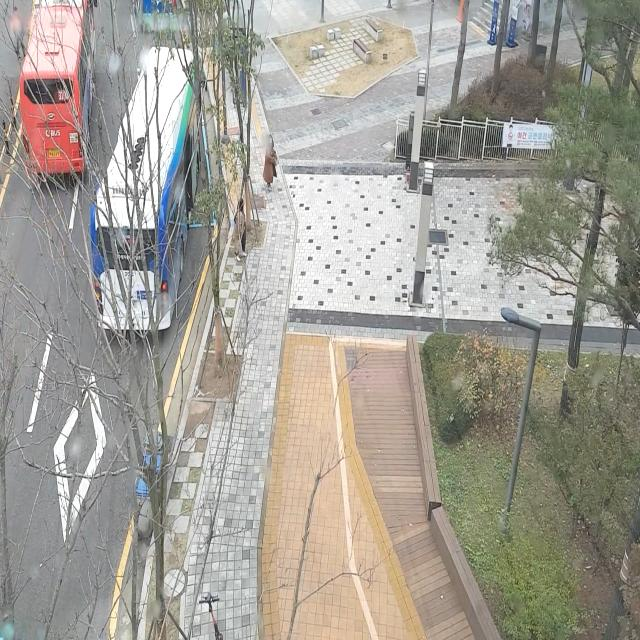Bus: (81, 43, 223, 362), (13, 0, 107, 192), (125, 0, 185, 40)
